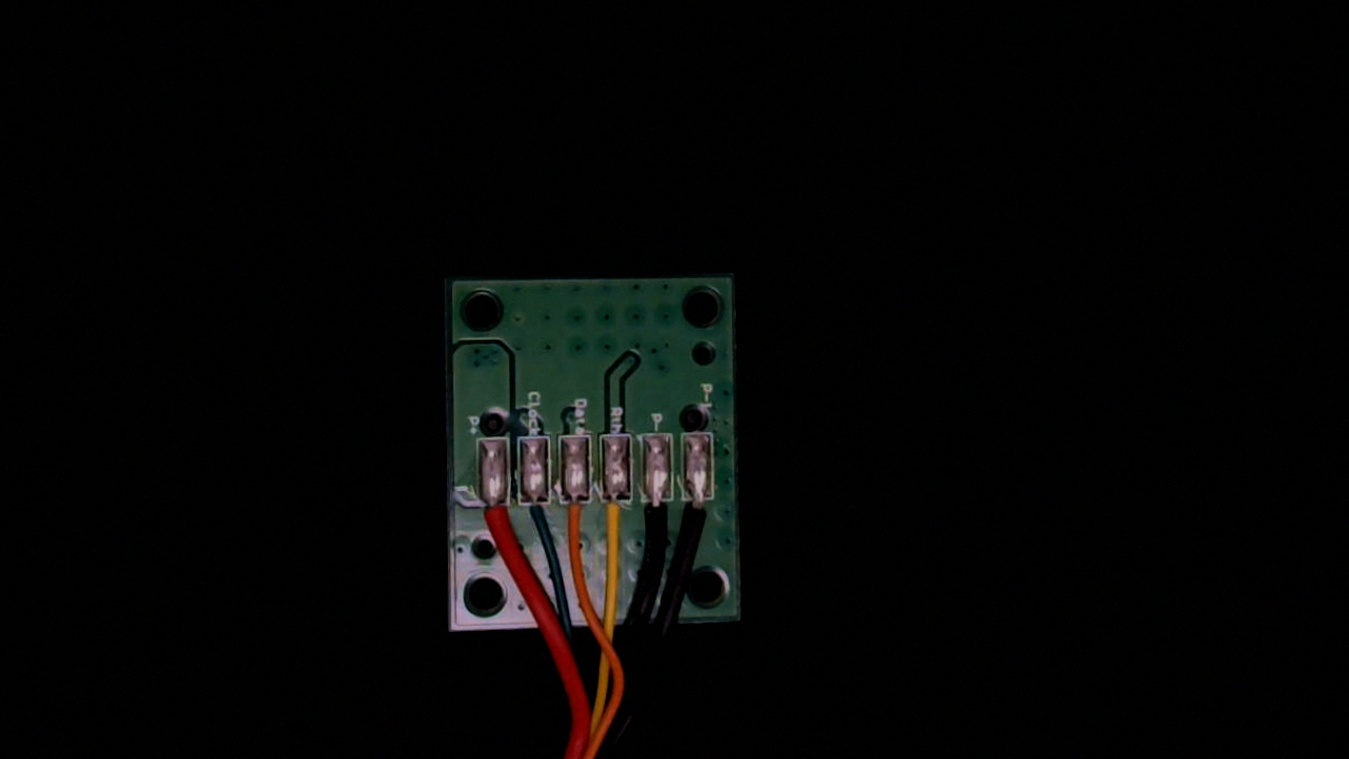Black: (638, 483, 675, 562)
Black1: (683, 481, 719, 553)
Green: (518, 482, 551, 545)
Orange: (559, 481, 594, 553)
Red: (477, 485, 514, 561)
Yellow: (597, 484, 635, 564)
